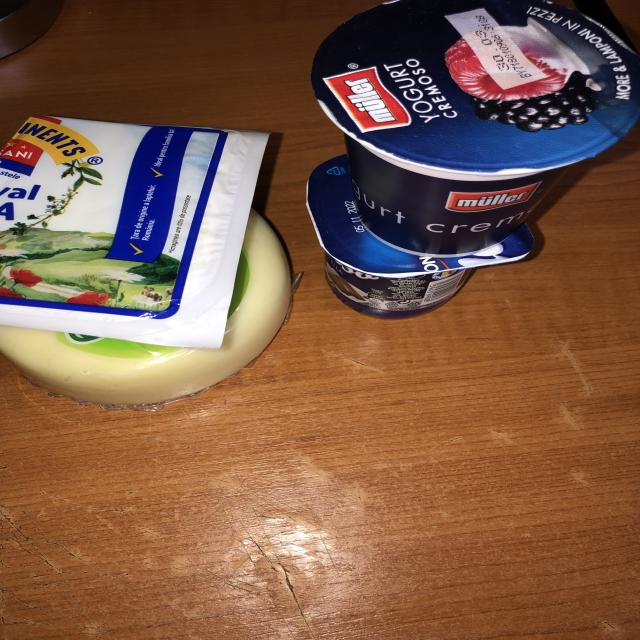cheese: (0, 113, 270, 350), (0, 203, 290, 411)
yogurt: (309, 0, 640, 258), (305, 156, 536, 320)
